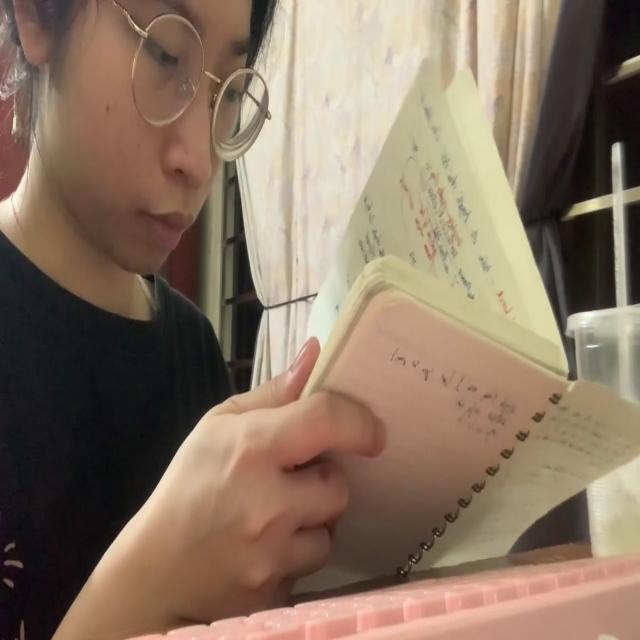book: (298, 49, 639, 607)
student: (0, 0, 389, 640)
